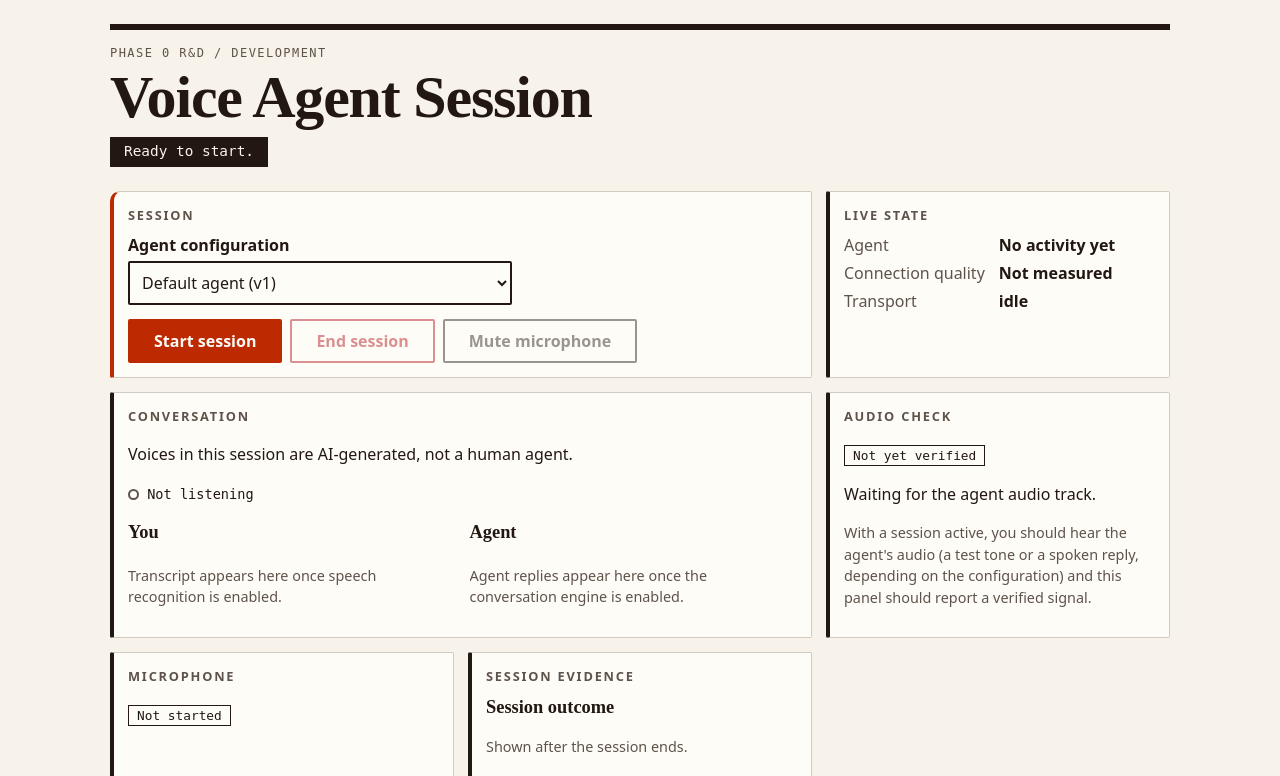
Test case: SessionScreen accessibility and states › verifies agent audio (tone or real speech) once audible audio is received
Click the button "Start session". click: (205, 341)
box: [128,319,282,363]
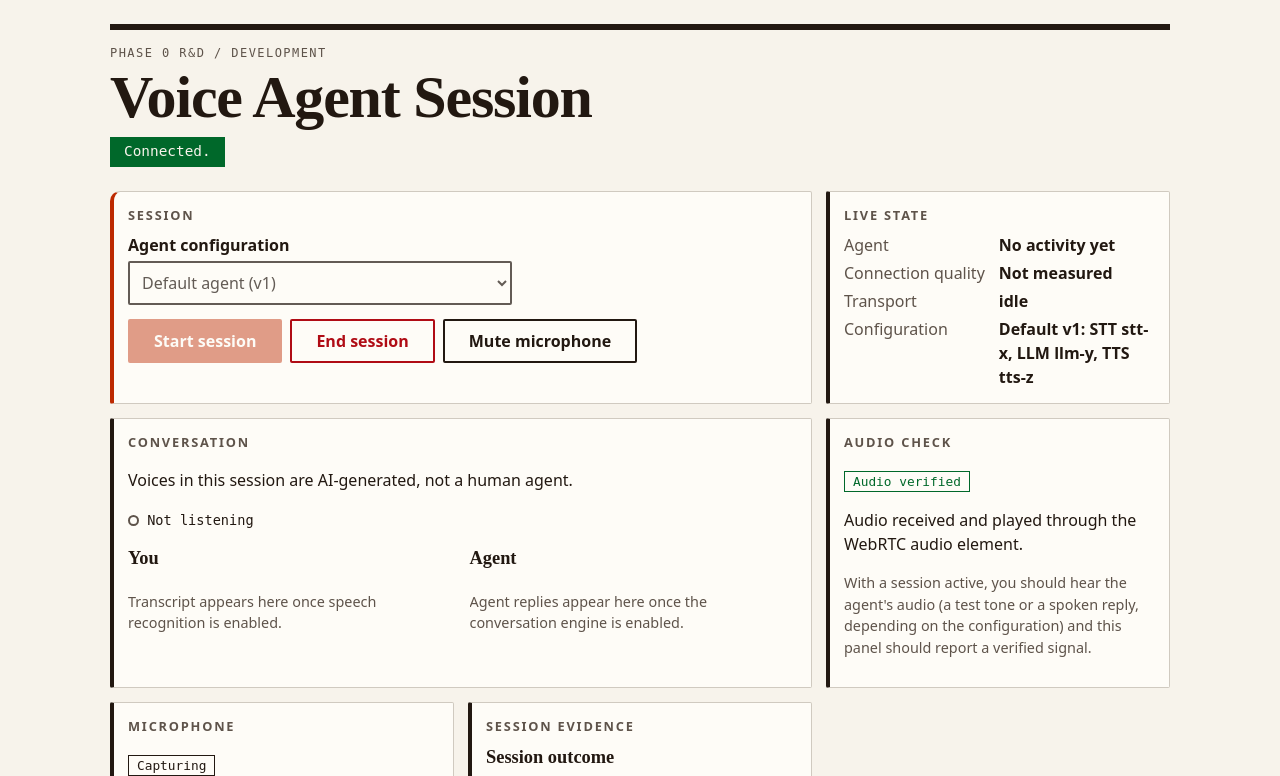
expect the message "Connected." is shown: met, box [110,137,225,167]
expect the text "Audio verified" is shown: met, box [844,471,970,492]
expect the text "Audio received and played through the WebRTC audio element." is shown: met, box [844,508,1155,556]
